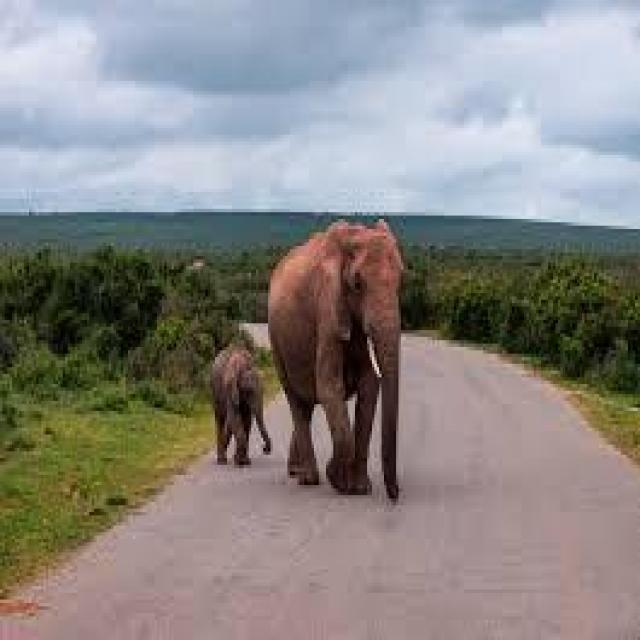Elephant: (268, 212, 408, 509), (203, 344, 268, 468)
